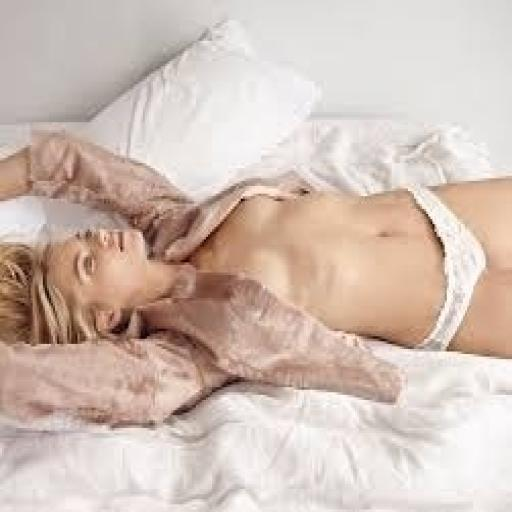sleeping: (0, 127, 510, 423)
